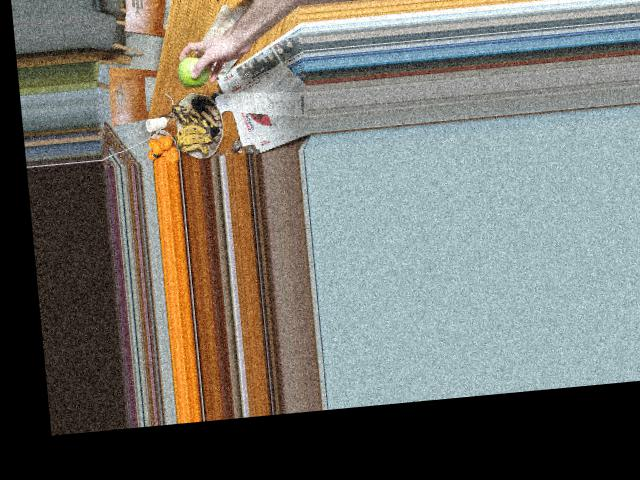apple: (177, 55, 212, 89)
